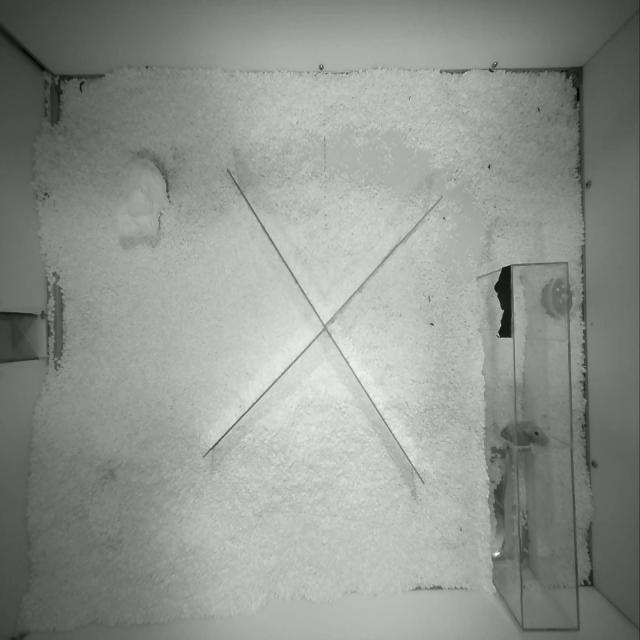adult_back: (501, 421, 548, 446)
